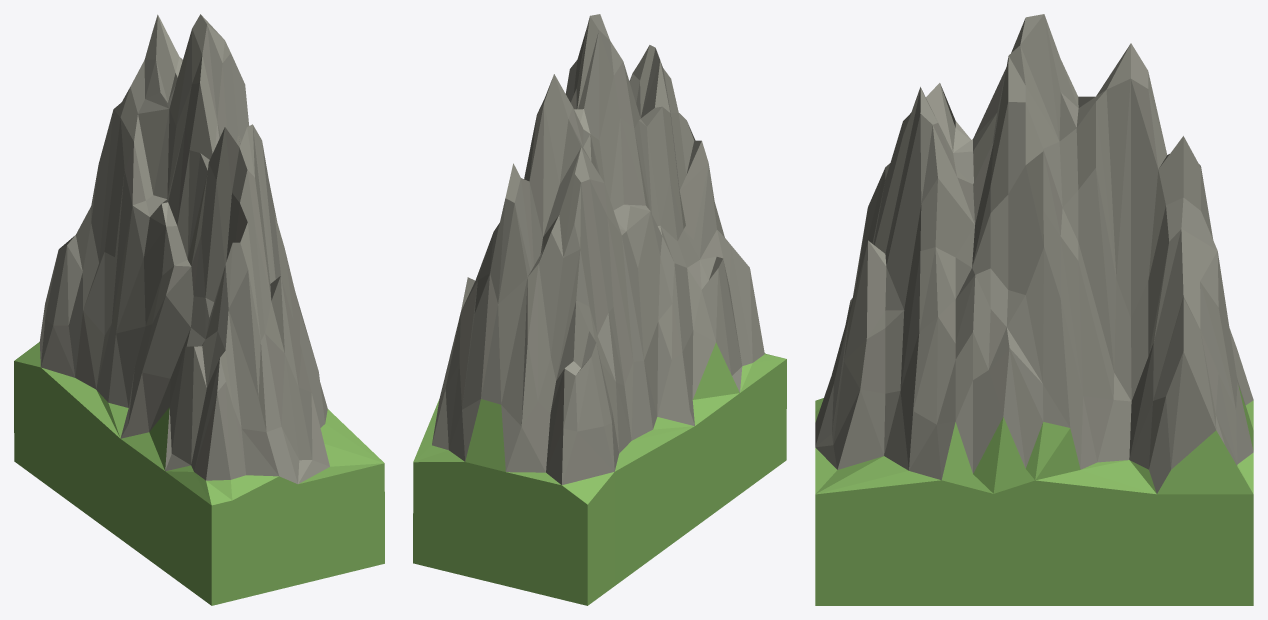
Rendered from Mountain.fbx.
3 renders of one model, left to right at view 1: azimuth 30°, elevation 25°; view 2: azimuth 150°, elevation 25°; view 3: azimuth 270°, elevation 25°, orthographic. The views are drawn at different scales.
Visible parts, largest first — view 1: Plane.003; view 2: Plane.003; view 3: Plane.003.
Part boxes in pixels (left/top/right/bottom): Plane.003: left=14, top=14, right=384, bottom=605; Plane.003: left=413, top=14, right=786, bottom=605; Plane.003: left=815, top=14, right=1253, bottom=605.
Size of the model in its own units: 201 by 546 by 396.
